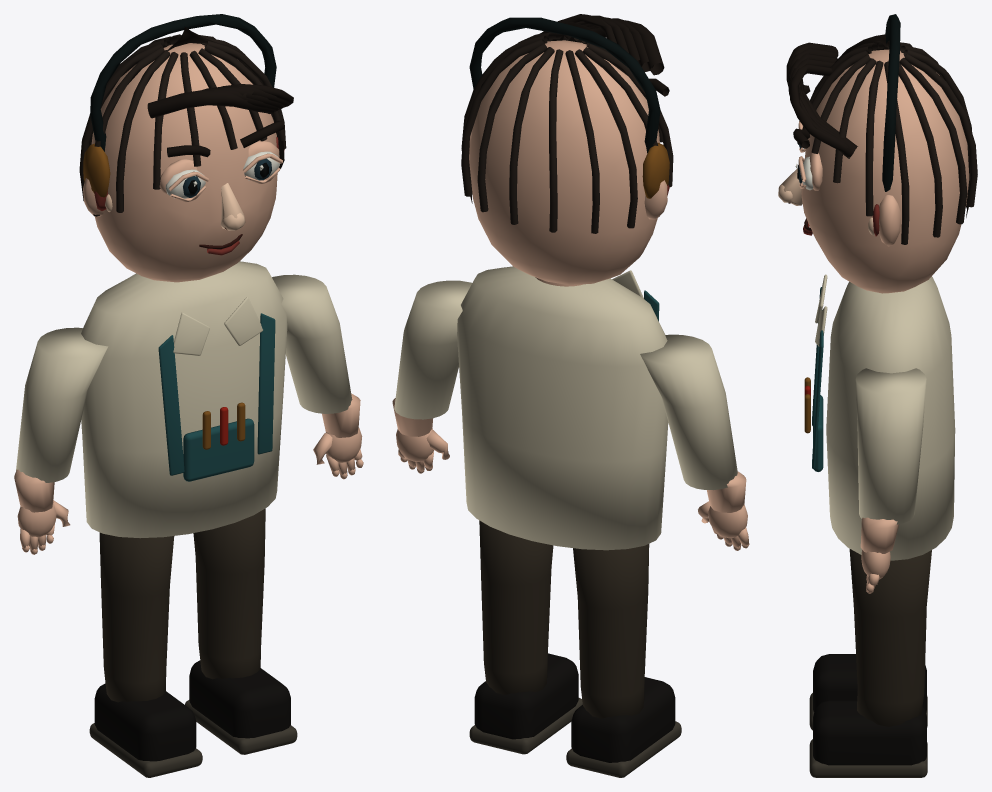
Rendered from technician-07.glb.
The picture shows the model from 3 angles, left to right: view 1: azimuth 30°, elevation 25°; view 2: azimuth 150°, elevation 25°; view 3: azimuth 270°, elevation 25°; orthographic projection. The views are drawn at different scales.
Visible parts, largest first — view 1: Body, Head, LegL, LegR, ArmL, ArmR; view 2: Body, Head, LegL, LegR, ArmL, ArmR; view 3: Head, Body, LegR, ArmR, LegL.
Part boxes in pixels (x1=…): Body: x1=81, y1=261, x2=287, y2=538; Head: x1=79, y1=14, x2=293, y2=282; LegL: x1=89, y1=532, x2=202, y2=777; LegR: x1=185, y1=508, x2=297, y2=754; ArmL: x1=14, y1=327, x2=108, y2=554; ArmR: x1=272, y1=274, x2=363, y2=479; Body: x1=457, y1=266, x2=668, y2=550; Head: x1=461, y1=14, x2=673, y2=284; LegL: x1=566, y1=544, x2=681, y2=777; LegR: x1=469, y1=520, x2=582, y2=754; ArmL: x1=640, y1=334, x2=749, y2=550; ArmR: x1=392, y1=280, x2=472, y2=473; Head: x1=778, y1=14, x2=977, y2=293; Body: x1=804, y1=274, x2=955, y2=560; LegR: x1=809, y1=549, x2=931, y2=777; ArmR: x1=855, y1=368, x2=926, y2=593; LegL: x1=809, y1=654, x2=927, y2=730.
Bounding box in the file's own units: 0.7308 × 1.45 × 0.3695.
